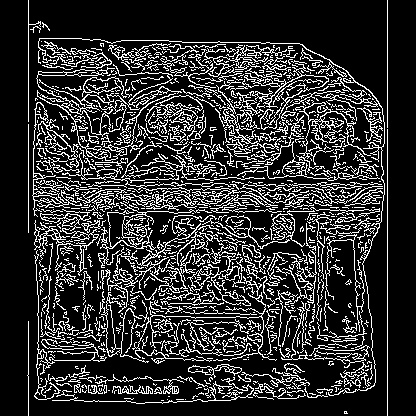buddha-pyre: (115, 126, 208, 294)
